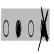correct: (15, 17, 22, 42)
not correct: (38, 5, 49, 52)
